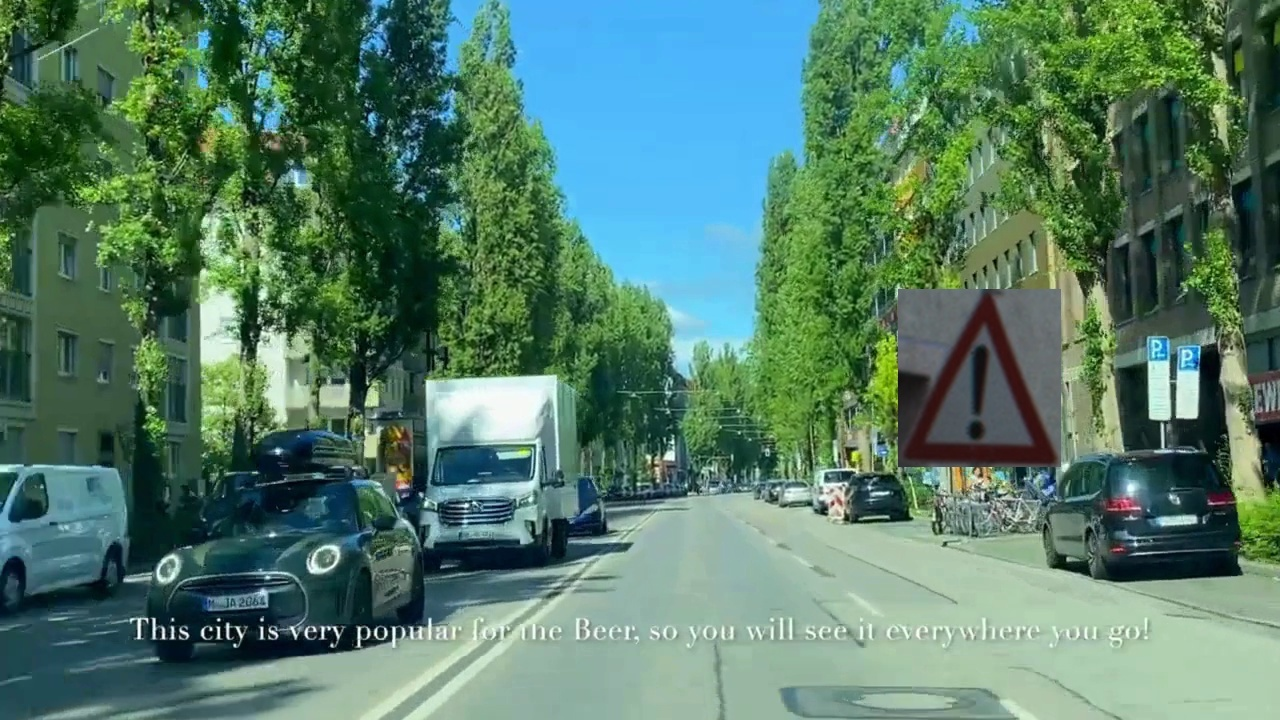Caution: (898, 289, 1061, 467)
